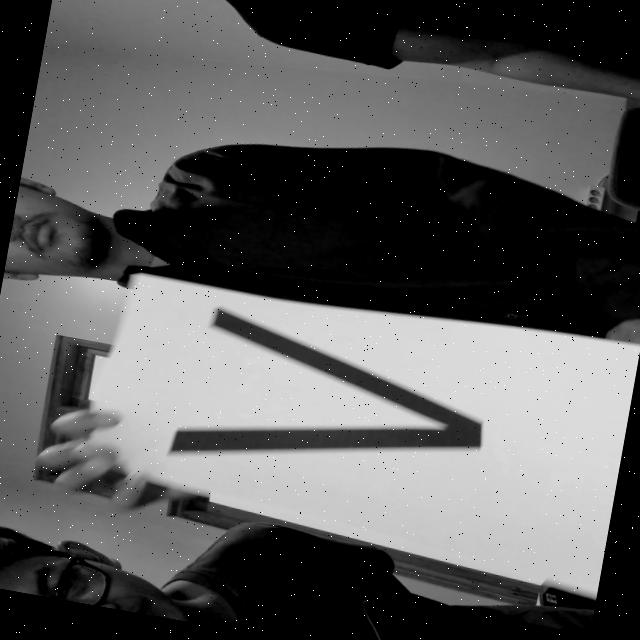v: (150, 300, 512, 522)
